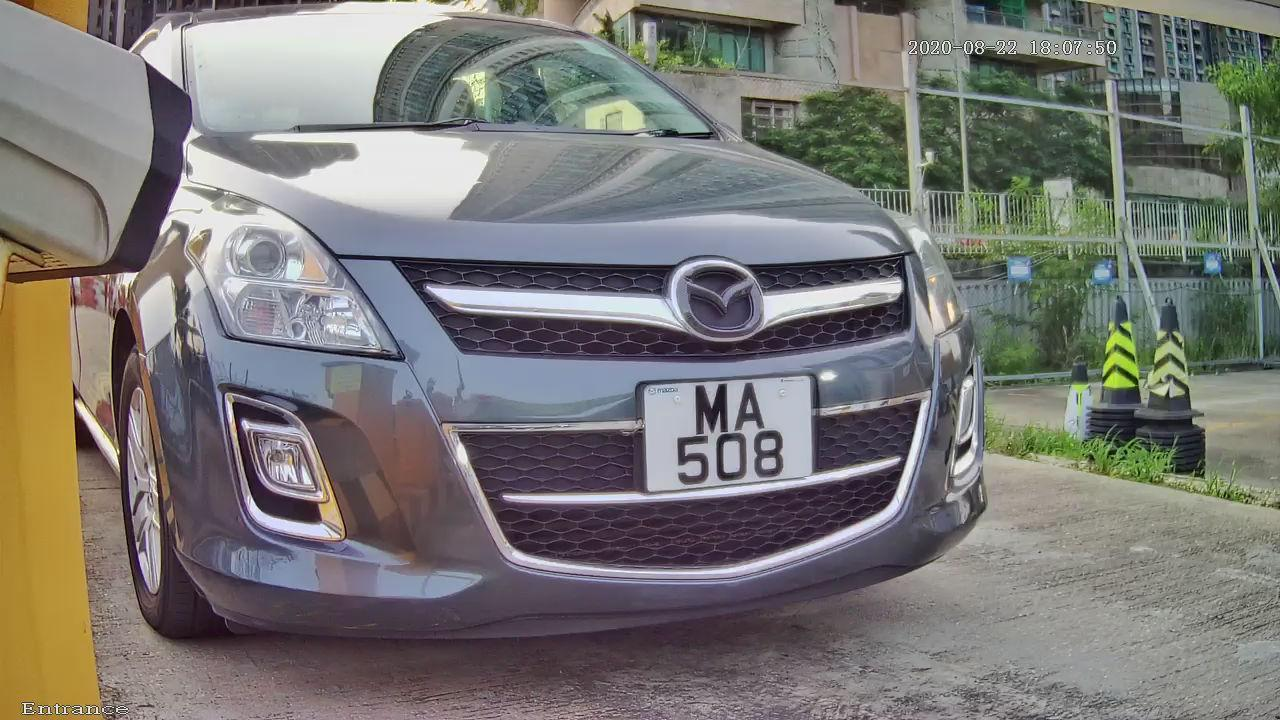Car: (35, 13, 1081, 682)
License Plate: (618, 357, 829, 512)
